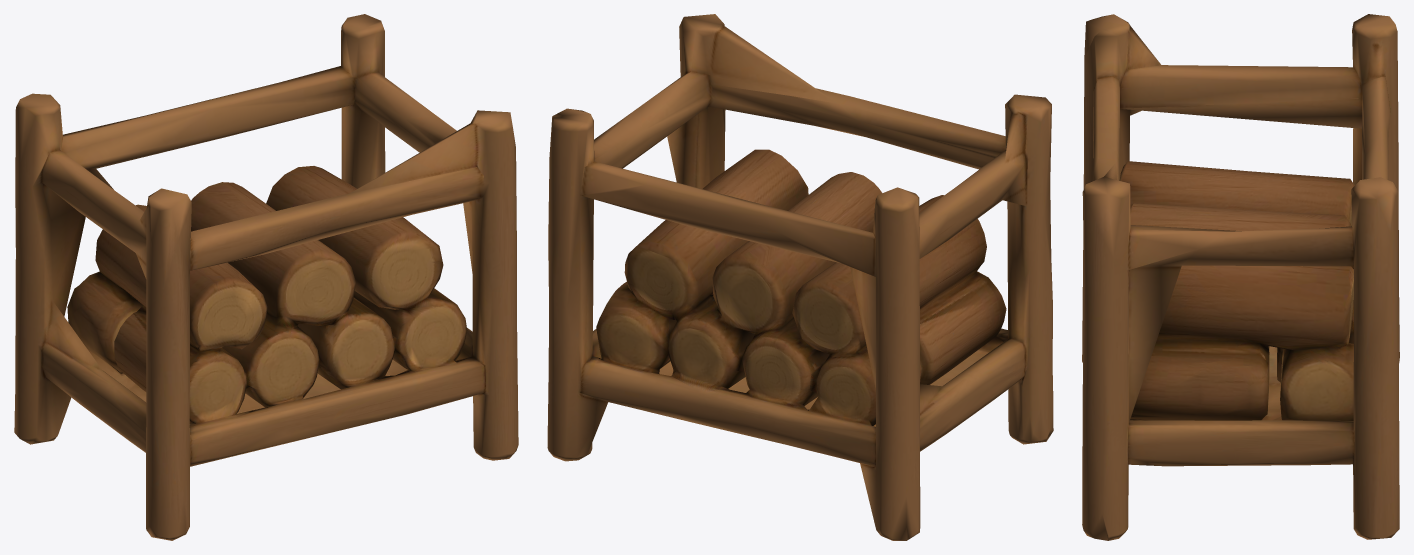
File: wooden storage half full.glb
3 views of the same model, side by side, from view 1: azimuth 30°, elevation 25°; view 2: azimuth 150°, elevation 25°; view 3: azimuth 270°, elevation 25° (orthographic). The views are drawn at different scales.
Visible parts, largest first — view 1: tripo_node_082e3642-0c23-4cfb-bd82-c03158232312; view 2: tripo_node_082e3642-0c23-4cfb-bd82-c03158232312; view 3: tripo_node_082e3642-0c23-4cfb-bd82-c03158232312.
Boxes of the visible parts, left/top/right/bottom form: tripo_node_082e3642-0c23-4cfb-bd82-c03158232312: left=14, top=14, right=518, bottom=540; tripo_node_082e3642-0c23-4cfb-bd82-c03158232312: left=547, top=14, right=1053, bottom=540; tripo_node_082e3642-0c23-4cfb-bd82-c03158232312: left=1082, top=14, right=1399, bottom=540.
Bounding box in the file's own units: 0.9996 × 0.8763 × 0.7271.
1 material, 1 textured.
